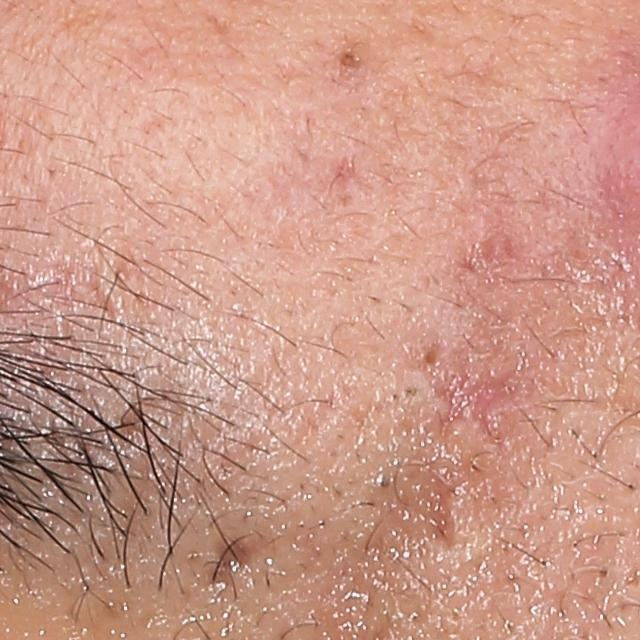atrophic_scar: (181, 529, 273, 610), (109, 383, 199, 460)
comedo: (336, 47, 365, 73)
